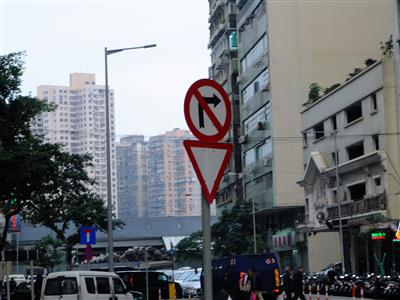deadEnd: (79, 225, 96, 244)
noRightTurn: (182, 76, 233, 145)
noStopping: (83, 243, 94, 260)
yield: (181, 136, 233, 204)
